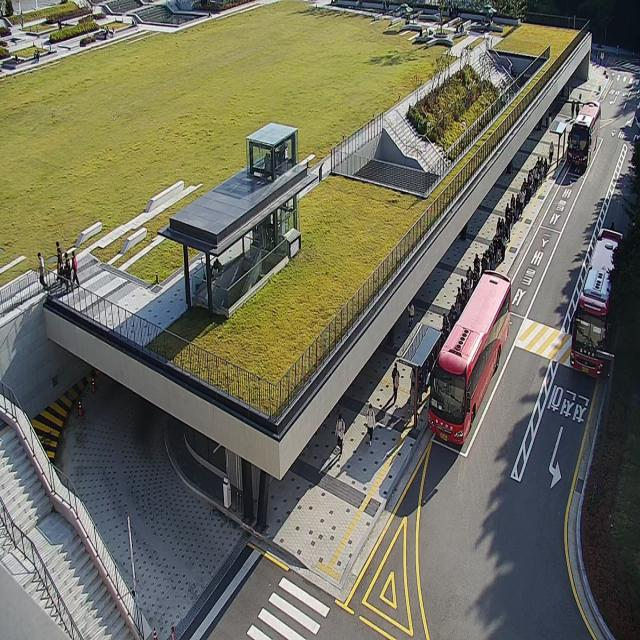queue: (415, 140, 555, 426)
